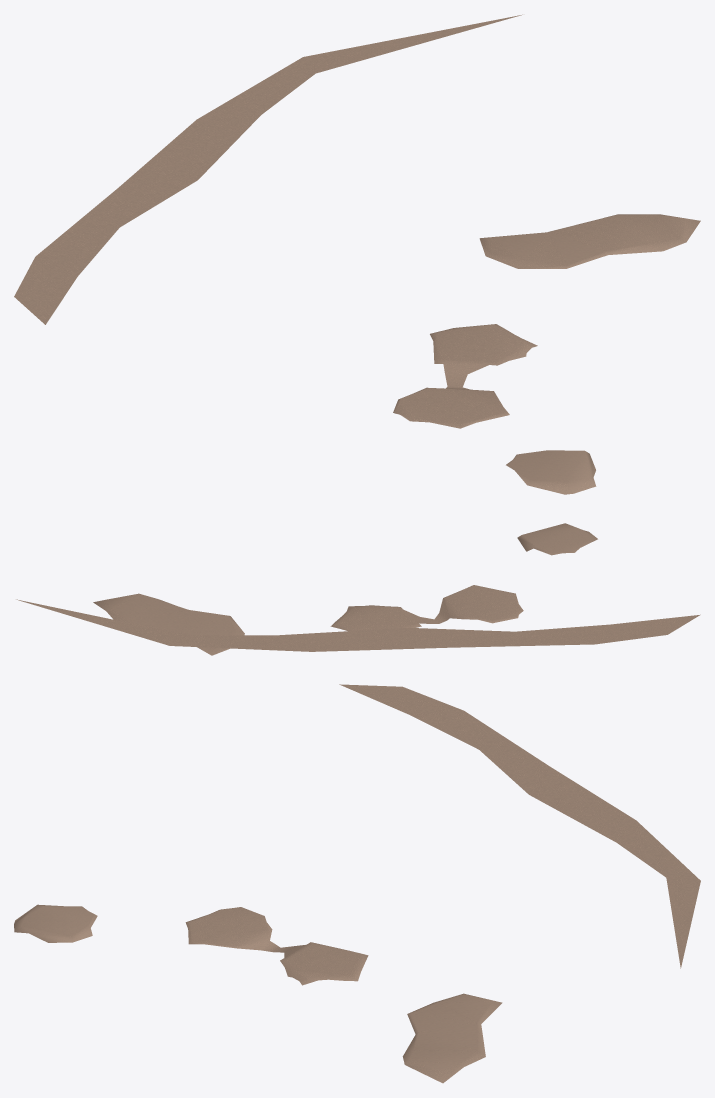
Rendered from kd_connection_town-ground_surface_2_14.glb.
3 renders of one model, top to bottom at view 1: azimuth 30°, elevation 25°; view 2: azimuth 150°, elevation 25°; view 3: azimuth 270°, elevation 25°, orthographic. The views are drawn at different scales.
Visible parts, largest first — view 1: kd_connection_town-ground_surface_2_14; view 2: kd_connection_town-ground_surface_2_14; view 3: kd_connection_town-ground_surface_2_14.
Boxes of the visible parts, x1,y1,x2,y2 form: kd_connection_town-ground_surface_2_14: (14, 14, 700, 494); kd_connection_town-ground_surface_2_14: (16, 523, 700, 655); kd_connection_town-ground_surface_2_14: (14, 684, 700, 1083).
Size of the model in its own units: 93.68 by 15.81 by 90.51.
Materials: 1 (1 with a texture image).
